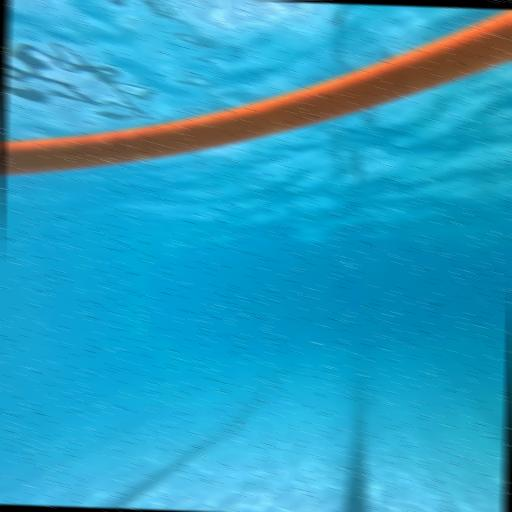upper_gate: (0, 0, 512, 195)
